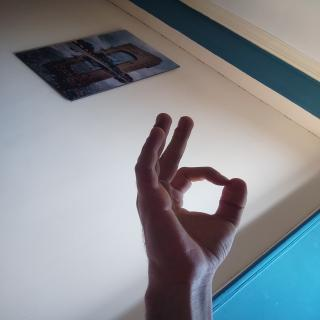Space: (122, 99, 257, 270)
